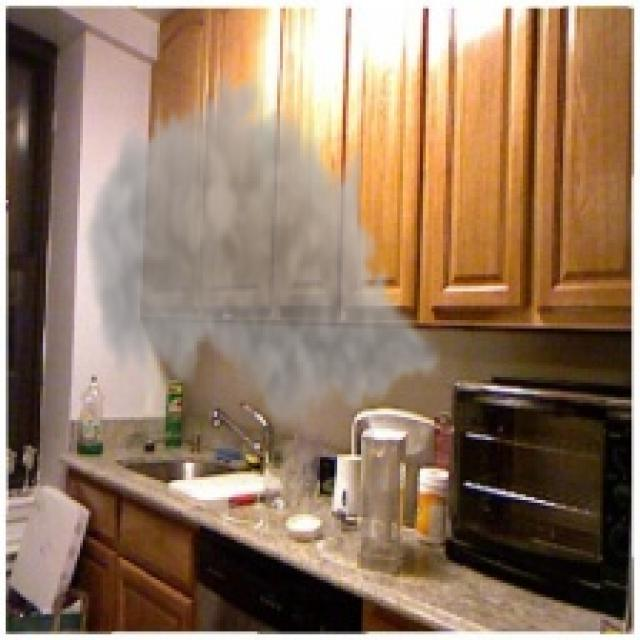smoke: (80, 63, 446, 437)
